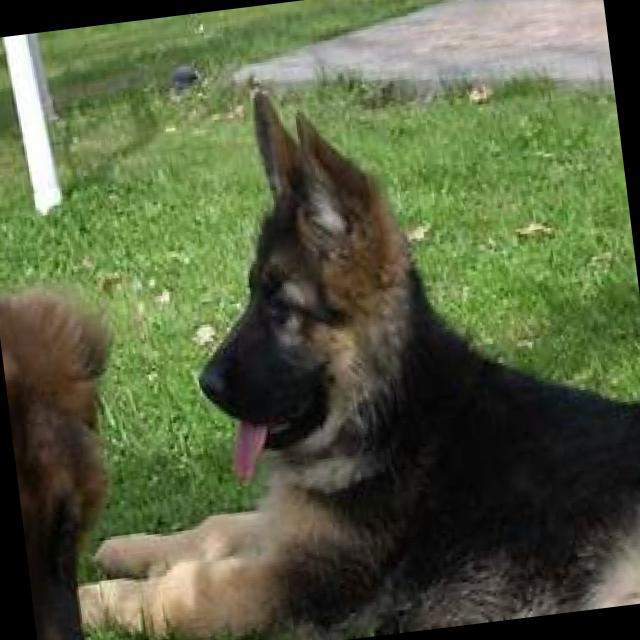dog: (58, 43, 640, 640)
